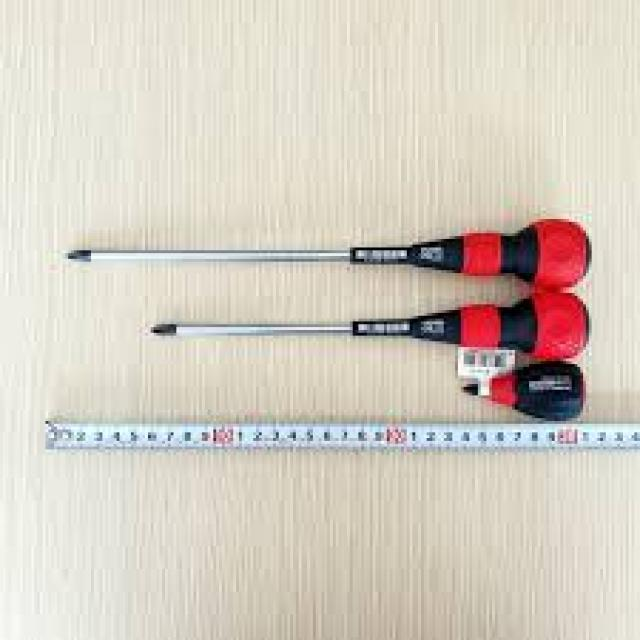screwdriver: (61, 214, 593, 288), (141, 288, 594, 362), (460, 362, 592, 426)
